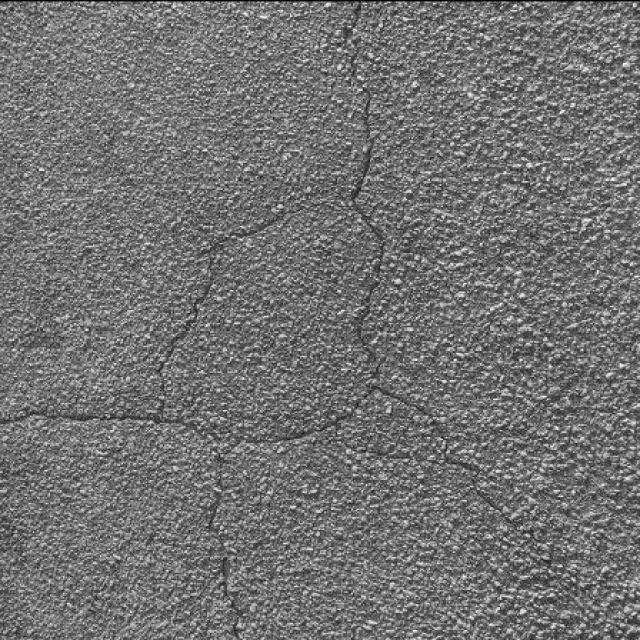Crack: (2, 1, 532, 640)
